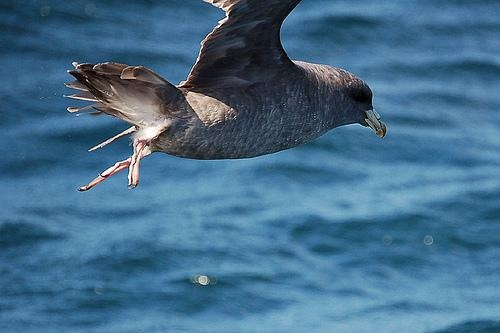bird: (72, 1, 390, 198)
